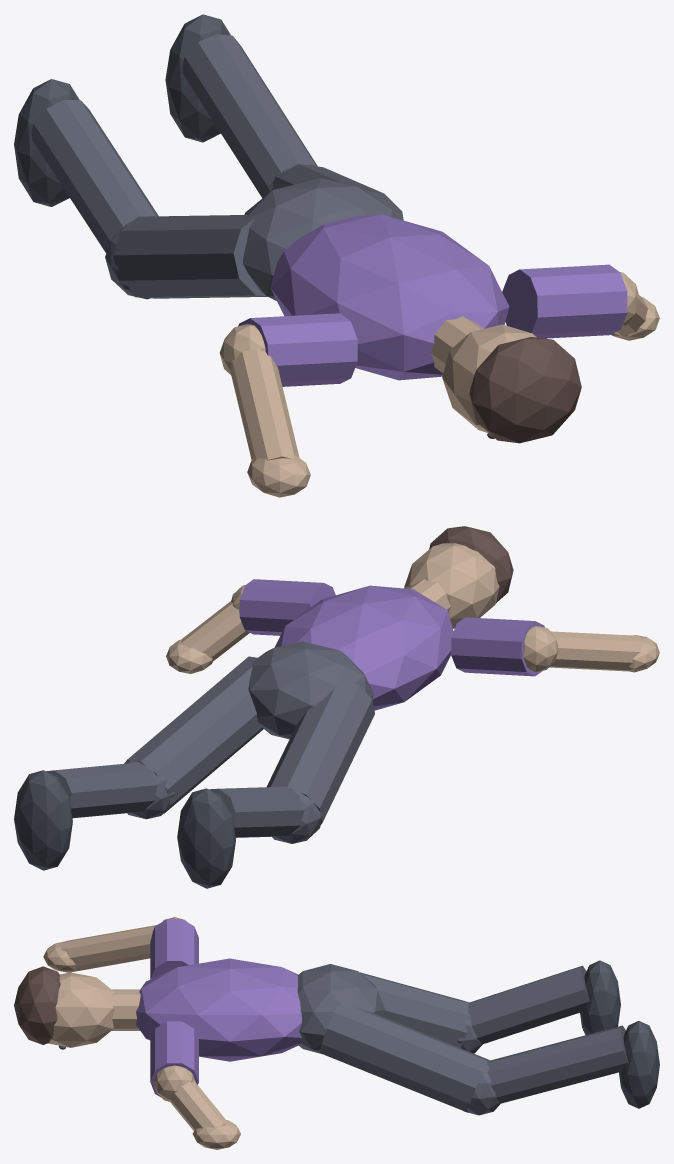
3 renders of one model, top to bottom at view 1: azimuth 30°, elevation 25°; view 2: azimuth 150°, elevation 25°; view 3: azimuth 270°, elevation 25°, orthographic. The views are drawn at different scales.
Parts seen in each view (by area): view 1: world; view 2: world; view 3: world.
Part boxes in pixels (bbox=[...]): world: bbox=[14, 14, 659, 497]; world: bbox=[14, 526, 659, 888]; world: bbox=[14, 917, 659, 1149].
Bounding box in the file's own units: 1.25 × 0.38 × 1.99.
